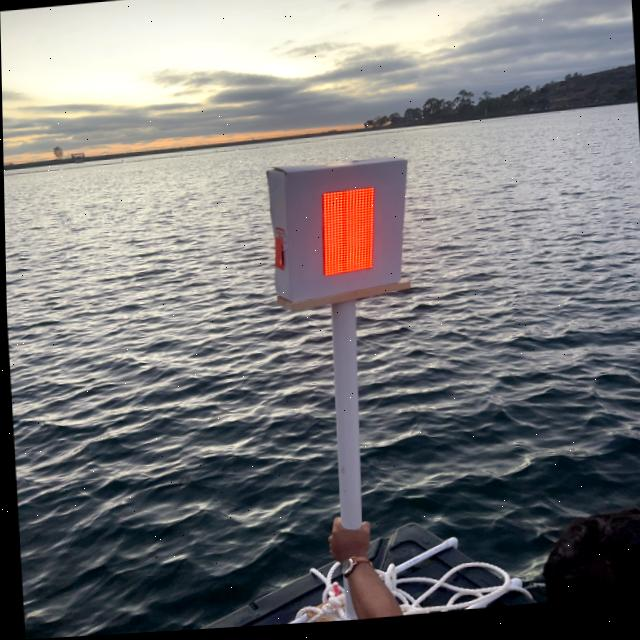led: (313, 187, 383, 289)
